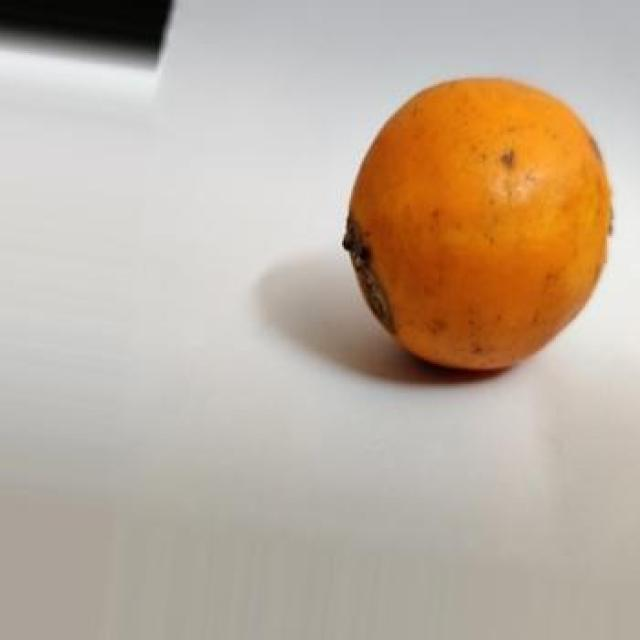good: (340, 77, 614, 375)
